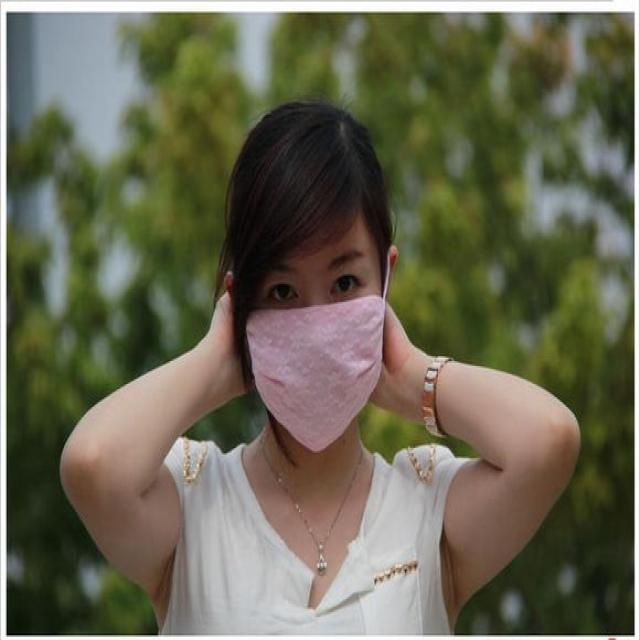mask: (251, 191, 385, 449)
